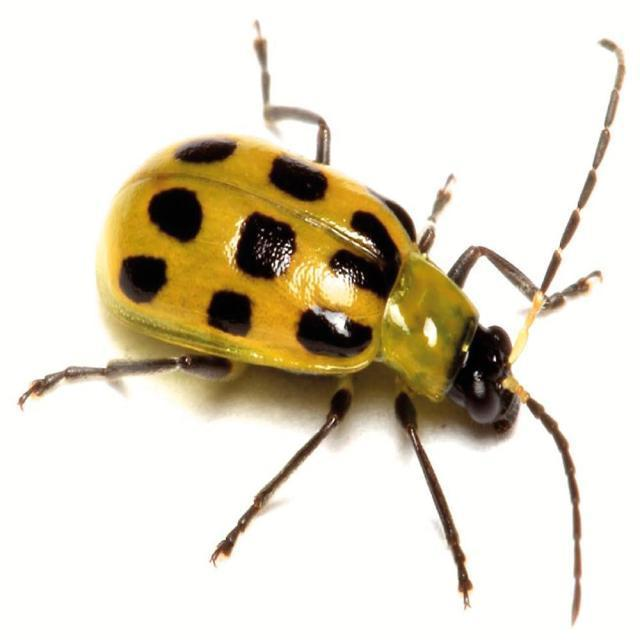gusano_verde: (19, 17, 626, 618)
